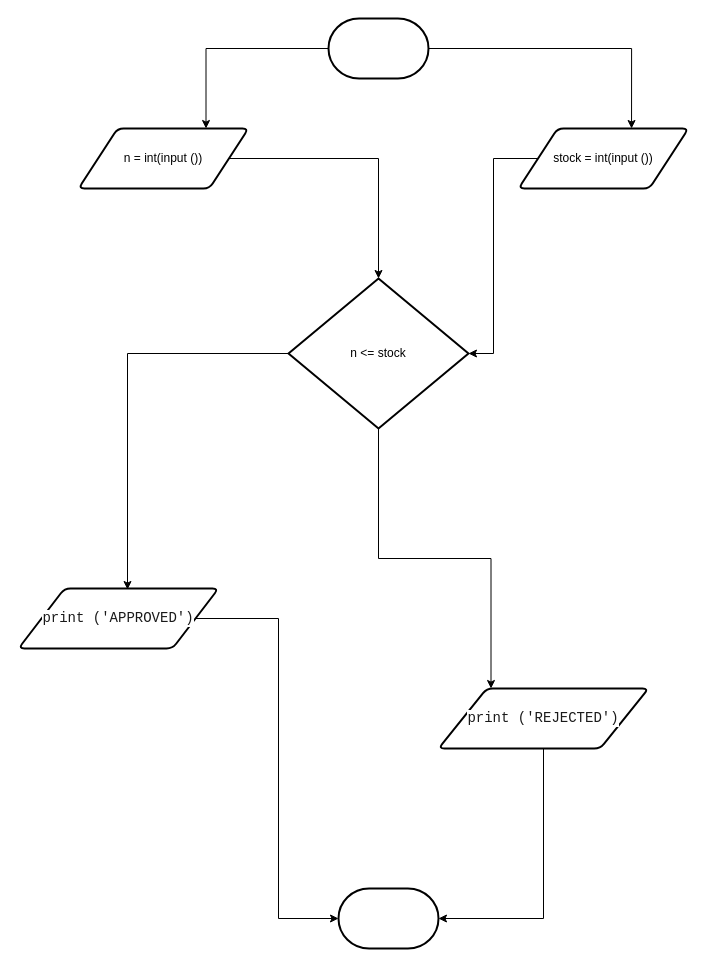
The diagram is 706 pixels wide and 966 high, and some of its shapes have lost their labels. The box of each missing label's shape, as (x1, y1, x2, y2) in pixels:
Конец: (337, 887, 439, 949)
Старт: (327, 17, 429, 79)
